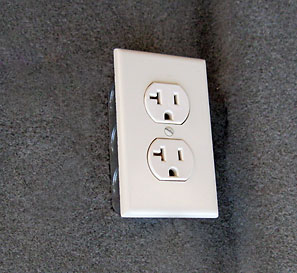outlet: (146, 88, 183, 122), (150, 145, 186, 179)
